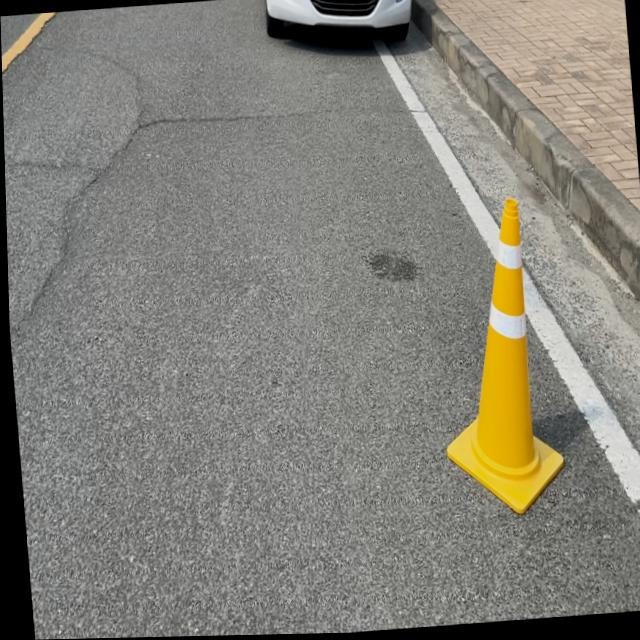y_rub: (445, 199, 562, 516)
